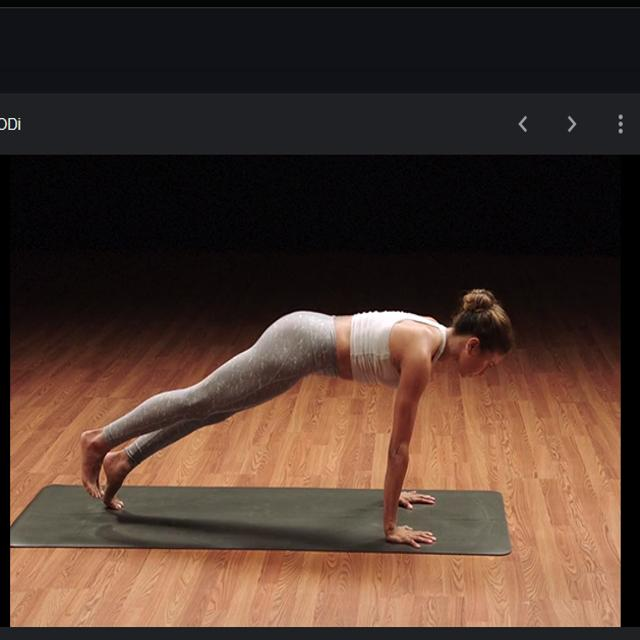Plank_Pose: (77, 286, 513, 551)
